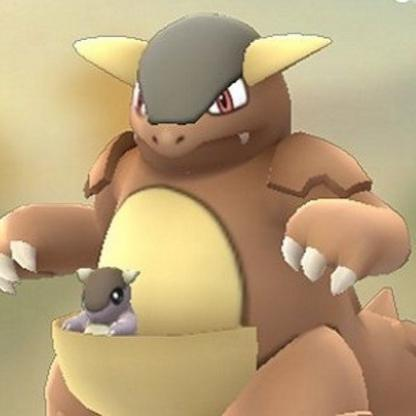Kangaskhan: (6, 22, 416, 416)
